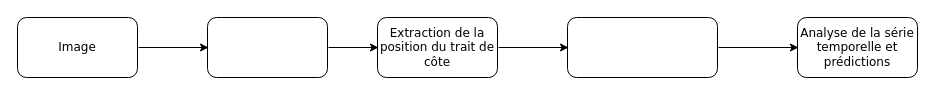
Image size: 935x95. Some labels were removed from this diagram. Each missing label, with the centre of its shape:
"Extraction du trait de cote" belongs at point 267,47.
"Série temporelle de la position du trait de côte en des transects" belongs at point 642,47.
